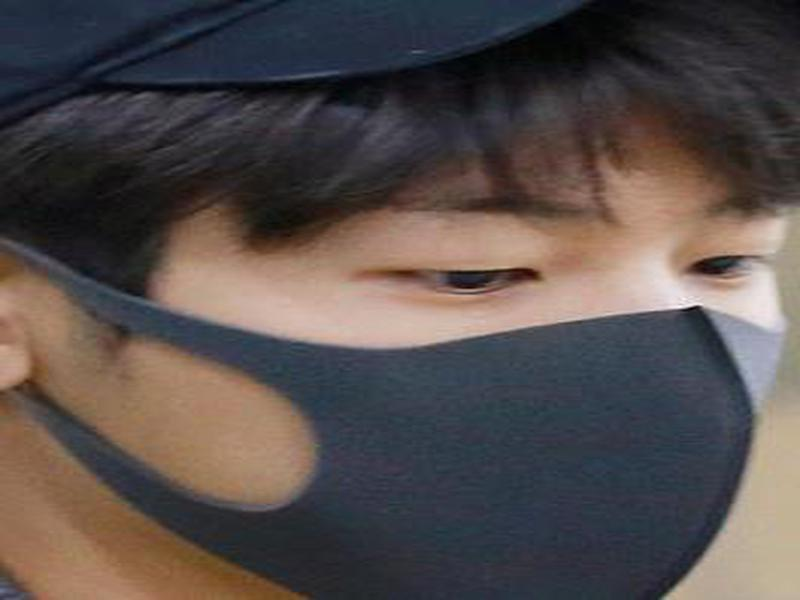with_mask: (1, 95, 790, 600)
